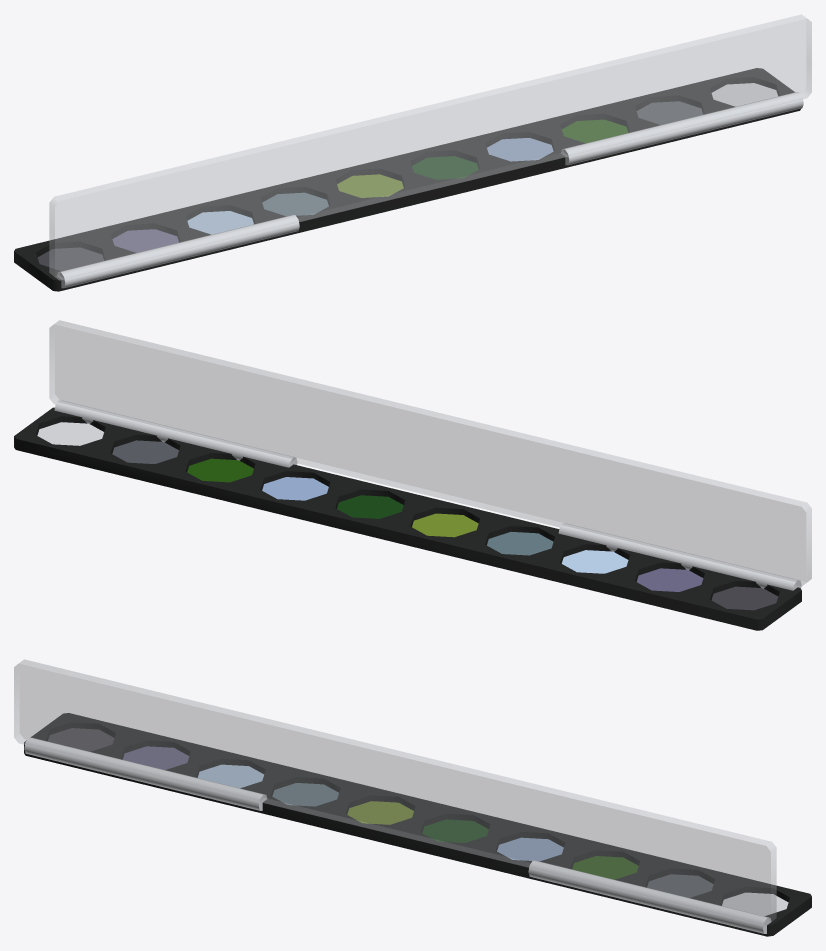
Rendered from make_up_pallete_open_005.fbx.
3 renders of one model, top to bottom at view 1: azimuth 30°, elevation 25°; view 2: azimuth 150°, elevation 25°; view 3: azimuth 330°, elevation 25°, orthographic.
Visible parts, largest first — view 1: make up_pallete_open.005; view 2: make up_pallete_open.005; view 3: make up_pallete_open.005.
Boxes of the visible parts, left/top/right/bottom form: make up_pallete_open.005: left=14, top=14, right=811, bottom=291; make up_pallete_open.005: left=14, top=320, right=811, bottom=630; make up_pallete_open.005: left=14, top=659, right=811, bottom=936.
Bounding box in the file's own units: 4643 × 553 × 502.
2 materials, 2 textured.
